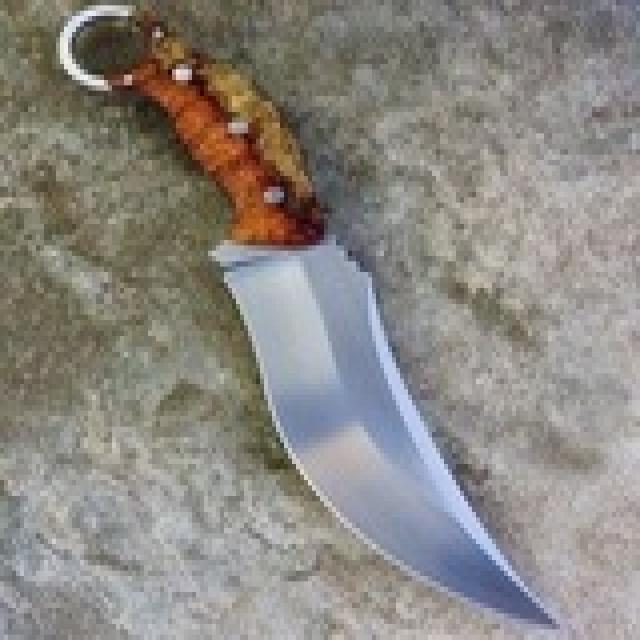Knife: (77, 21, 555, 626)
